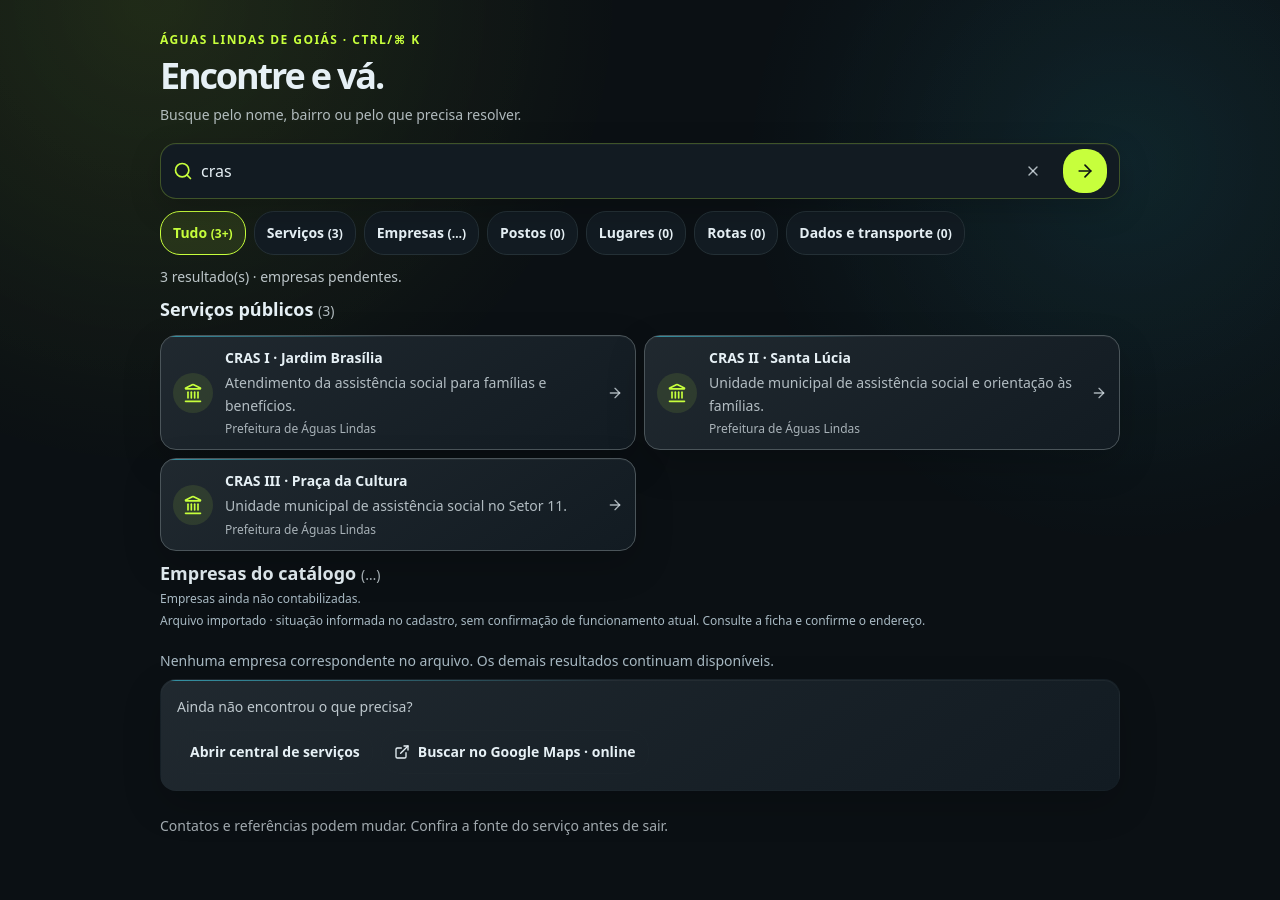
Test: mobile search organization › clears the query, returns to shortcuts and focuses the input
Click the button named "Limpar busca". click: [1033, 171]
box: [1011,149,1055,193]
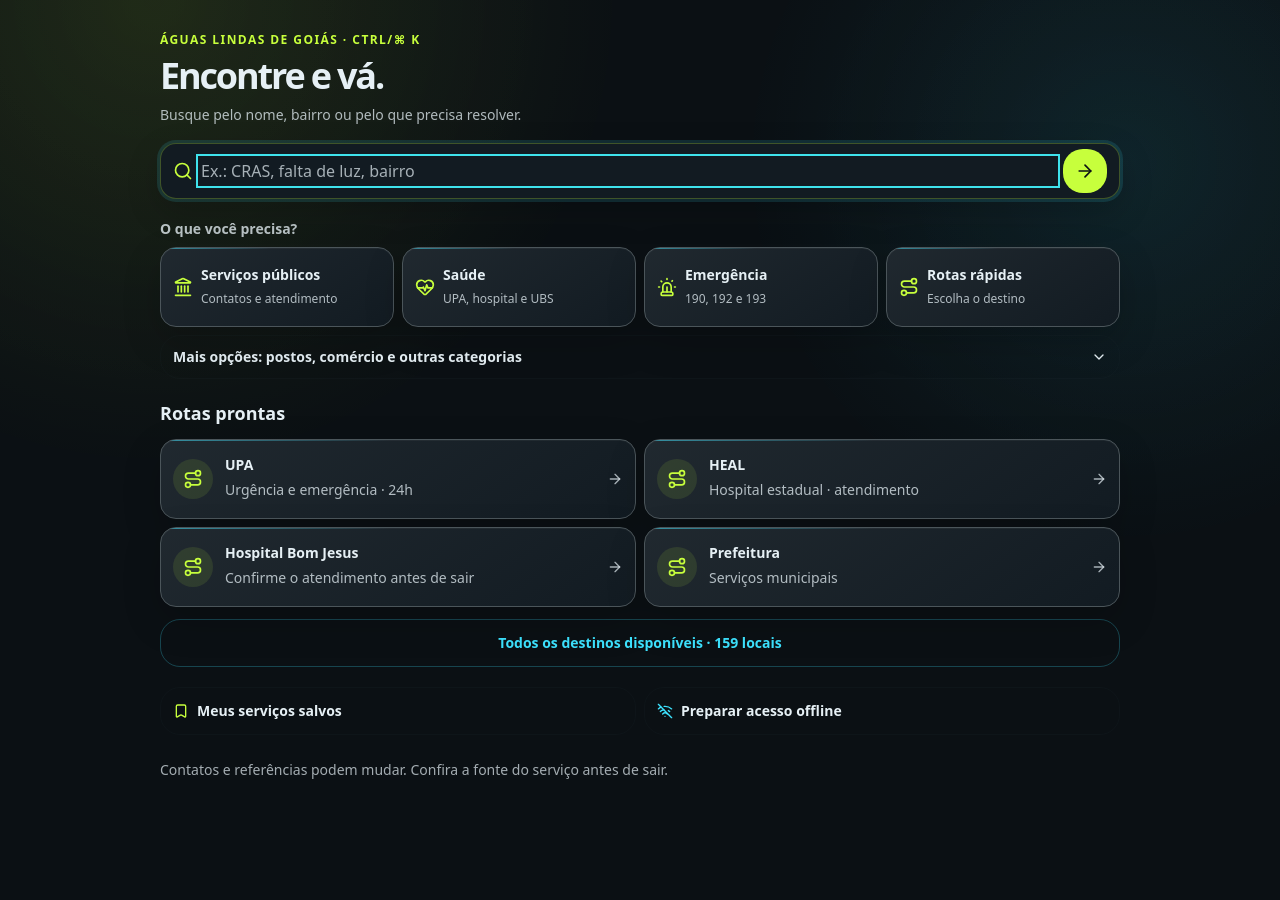
Now the heading "O que você precisa?" is shown, box [160,219,297,238]
